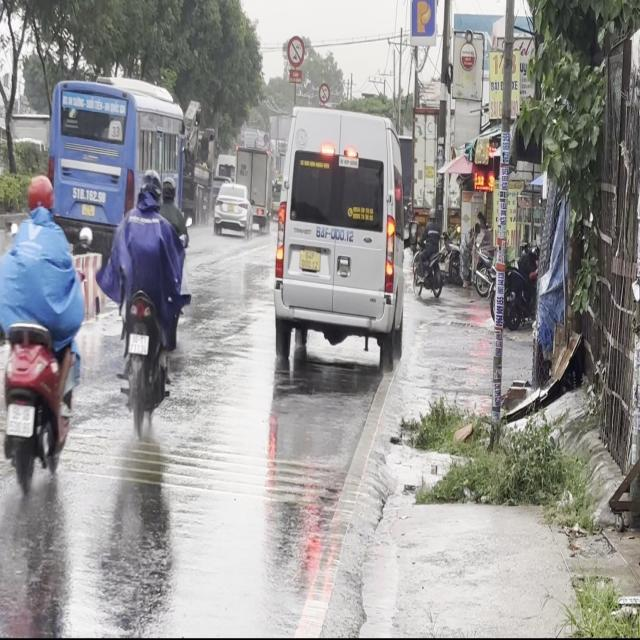helmet: (25, 173, 53, 216), (135, 168, 161, 209)
licenseplate: (0, 169, 88, 495), (105, 166, 184, 432)
nohelmet: (6, 404, 33, 436), (128, 333, 148, 353)
